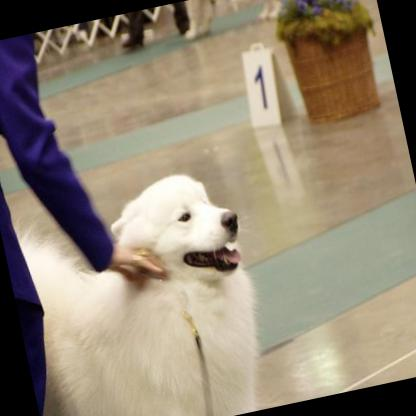Samoyed: (0, 160, 276, 416)
